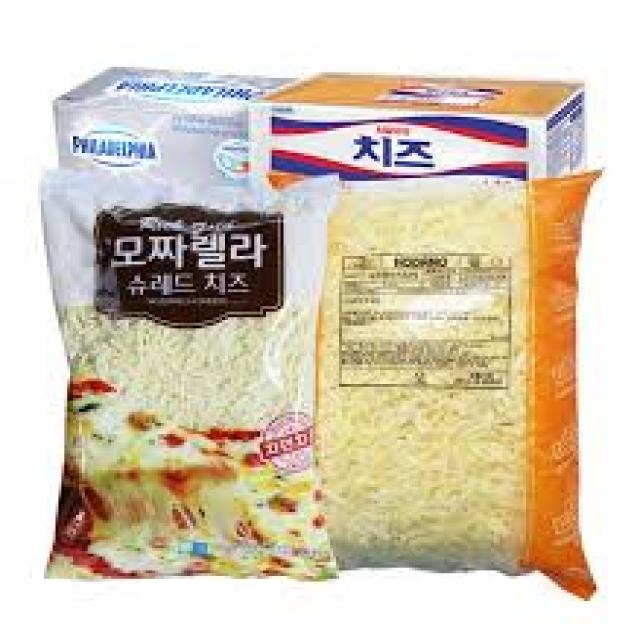cheese: (41, 176, 330, 574)
